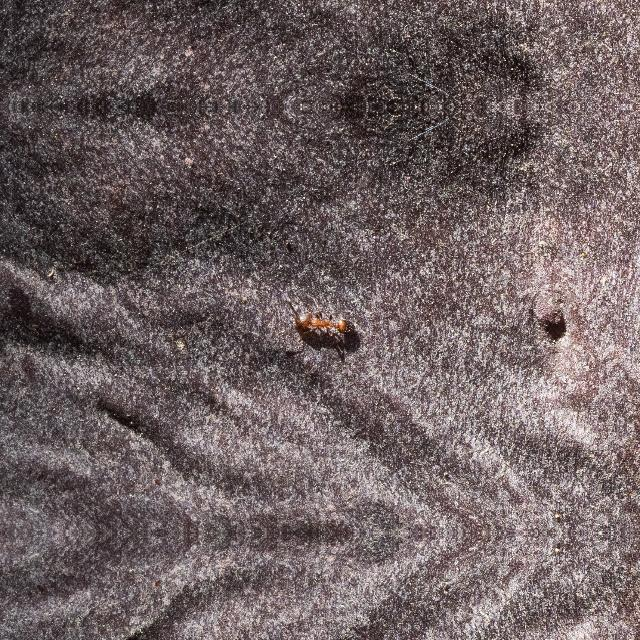Temnothorax: (283, 303, 359, 335)
